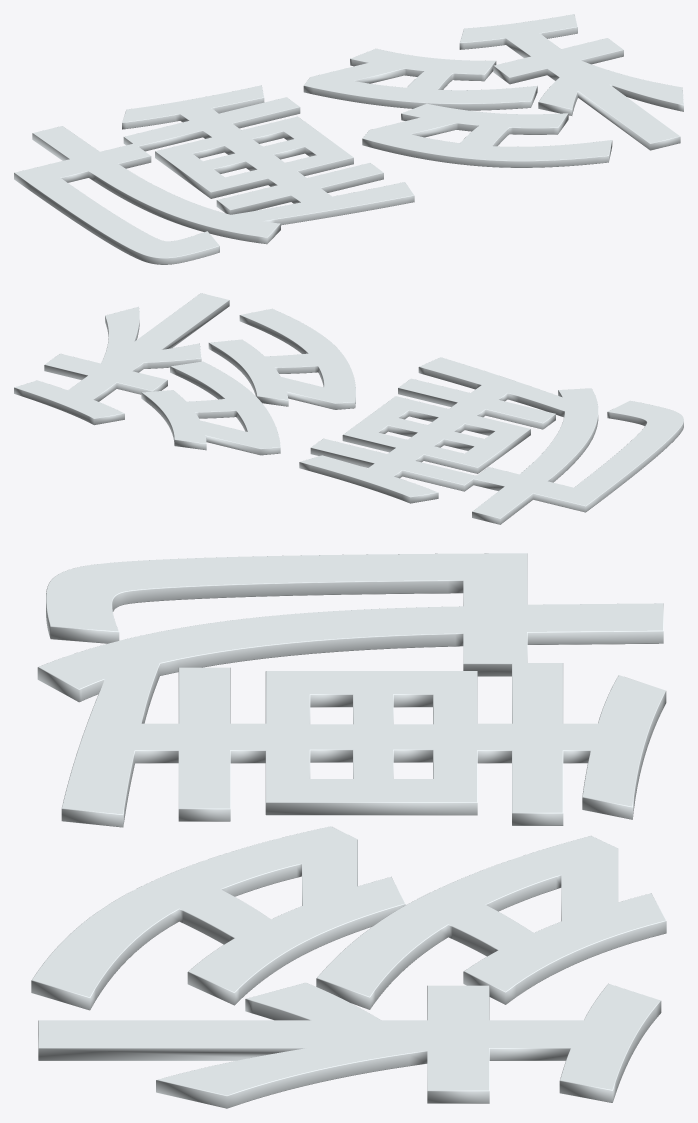
File: category_movement.obj
3 renders of one model, top to bottom at view 1: azimuth 30°, elevation 25°; view 2: azimuth 150°, elevation 25°; view 3: azimuth 270°, elevation 25°, orthographic. The views are drawn at different scales.
Visible parts, largest first — view 1: category_movement; view 2: category_movement; view 3: category_movement.
Boxes of the visible parts, x1,y1,x2,y2 form: category_movement: [14, 14, 683, 264]; category_movement: [14, 293, 683, 524]; category_movement: [31, 553, 666, 1108].
Bounding box in the file's own units: 1.46 × 0.0164 × 0.72.
1 material, 1 textured.
